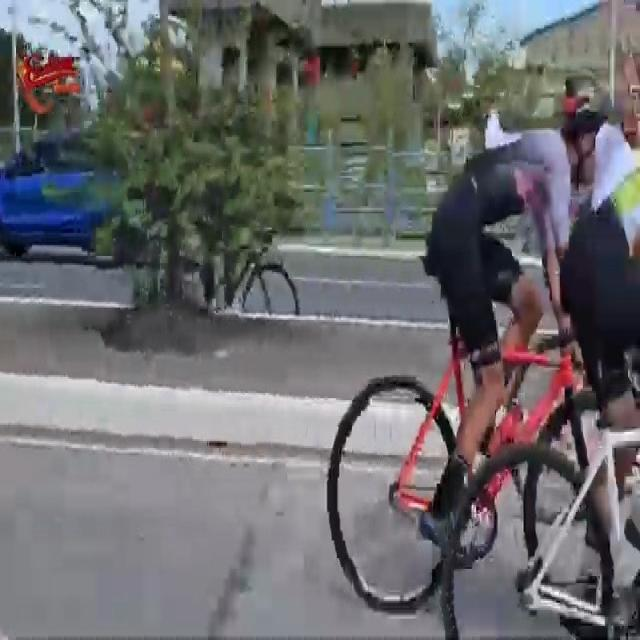bike: (330, 69, 640, 605), (436, 154, 640, 640), (198, 216, 302, 322)
car: (2, 127, 146, 266)
